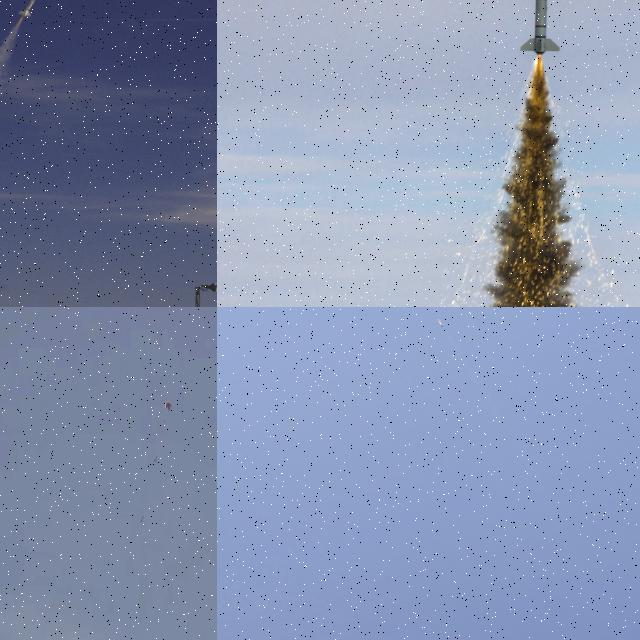Rocket: (519, 0, 560, 56), (18, 0, 38, 17), (437, 319, 446, 327), (140, 515, 144, 523)
